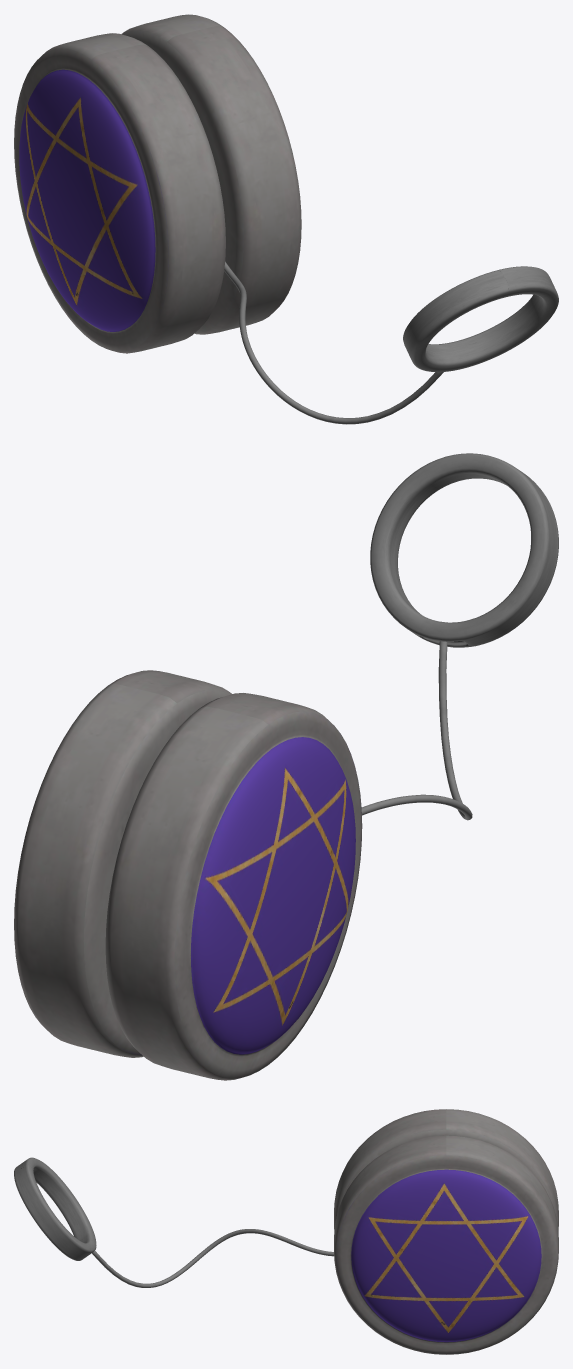
Rendered from yoyo.glb.
3 views of the same model, one above another, from view 1: azimuth 30°, elevation 25°; view 2: azimuth 150°, elevation 25°; view 3: azimuth 270°, elevation 25° (orthographic). The views are drawn at different scales.
Parts seen in each view (by area): view 1: _gltfNode_0, _gltfNode_6, _gltfNode_4; view 2: _gltfNode_0, _gltfNode_6, _gltfNode_4; view 3: _gltfNode_0, _gltfNode_6, _gltfNode_4.
Boxes of the visible parts, x1,y1,x2,y2 form: _gltfNode_0: [14, 14, 301, 353]; _gltfNode_6: [403, 266, 558, 372]; _gltfNode_4: [224, 261, 443, 424]; _gltfNode_0: [14, 670, 362, 1080]; _gltfNode_6: [370, 453, 558, 647]; _gltfNode_4: [361, 641, 472, 820]; _gltfNode_0: [334, 1109, 558, 1354]; _gltfNode_6: [14, 1157, 96, 1260]; _gltfNode_4: [92, 1229, 333, 1287].
Bounding box in the file's own units: 1.49 × 1.99 × 4.81.
Materials: 1 (1 with a texture image).
